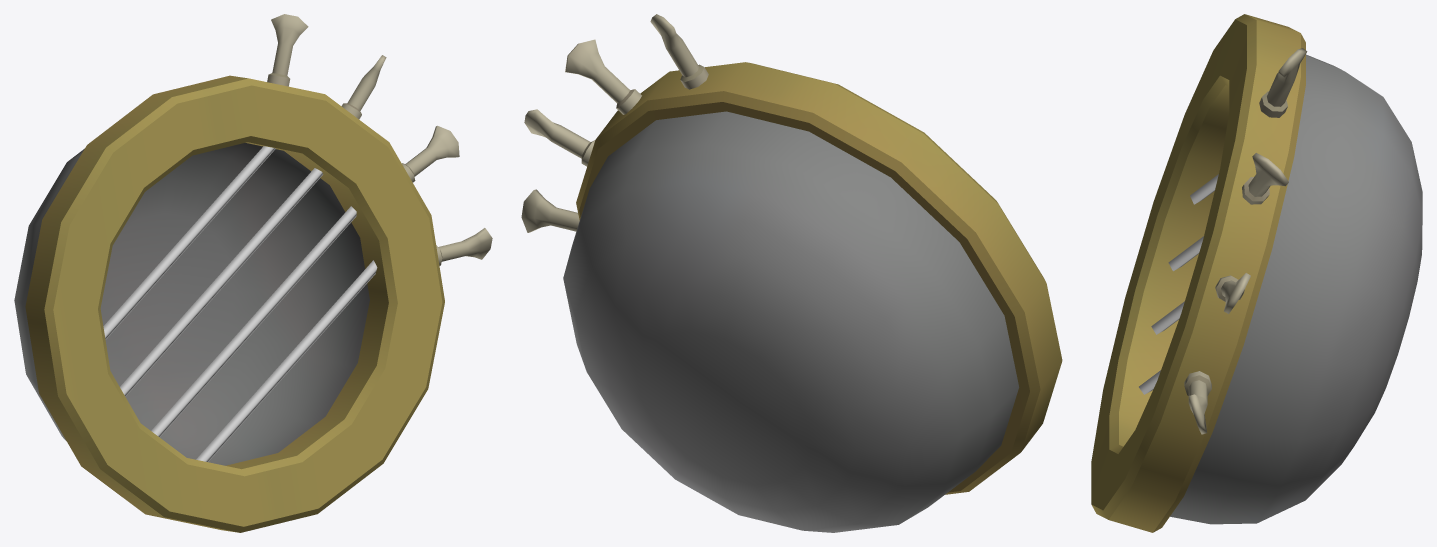
The model's file is CharSkyKid_Prop_Bass.glb.
3 renders of one model, left to right at view 1: azimuth 30°, elevation 25°; view 2: azimuth 150°, elevation 25°; view 3: azimuth 270°, elevation 25°, orthographic. The views are drawn at different scales.
Visible parts, largest first — view 1: CharSkyKid_Prop_Bass; view 2: CharSkyKid_Prop_Bass; view 3: CharSkyKid_Prop_Bass.
Boxes of the visible parts, x1,y1,x2,y2 form: CharSkyKid_Prop_Bass: (14, 14, 492, 532); CharSkyKid_Prop_Bass: (521, 14, 1062, 532); CharSkyKid_Prop_Bass: (1091, 14, 1422, 532).
Bounding box in the file's own units: 3.55 × 3.29 × 1.95.
1 material, 1 textured.
